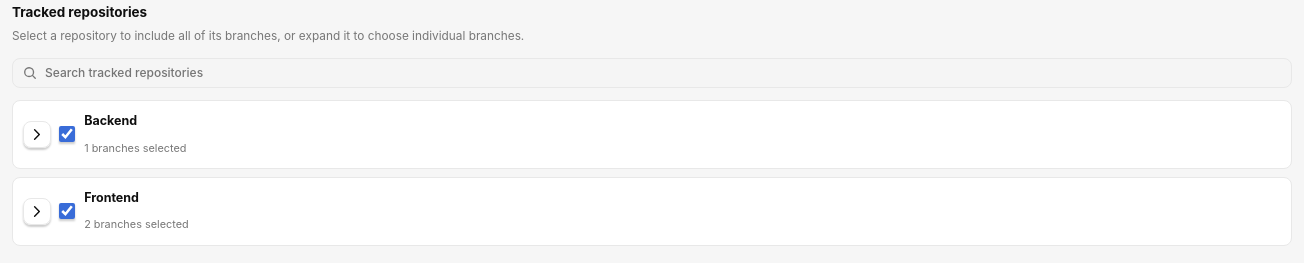
Scenario: RepositoryScopeSelector › restores all repositories when the search is cleared
In the field labelled "Search tracked repositories": coordinates (652, 73) [13, 59, 1291, 87], type "backend"
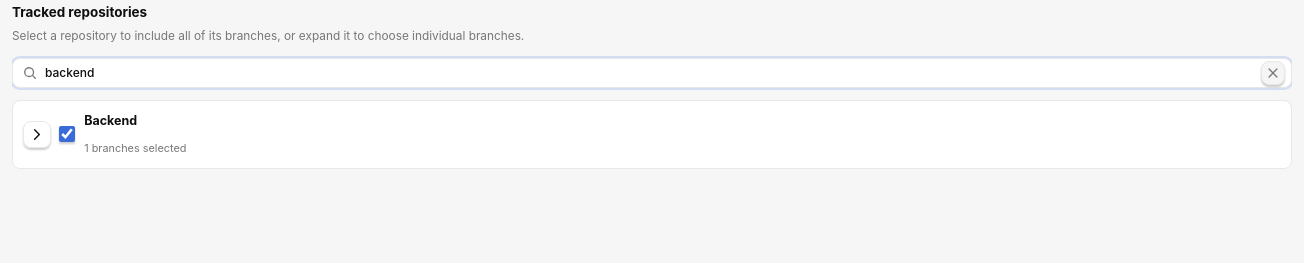
Expected: the text "Backend" is shown, [84, 113, 137, 128]
Expected: the text "Frontend" is gone
Click the button named "Clear search": coordinates (1273, 73) [1261, 61, 1285, 85]
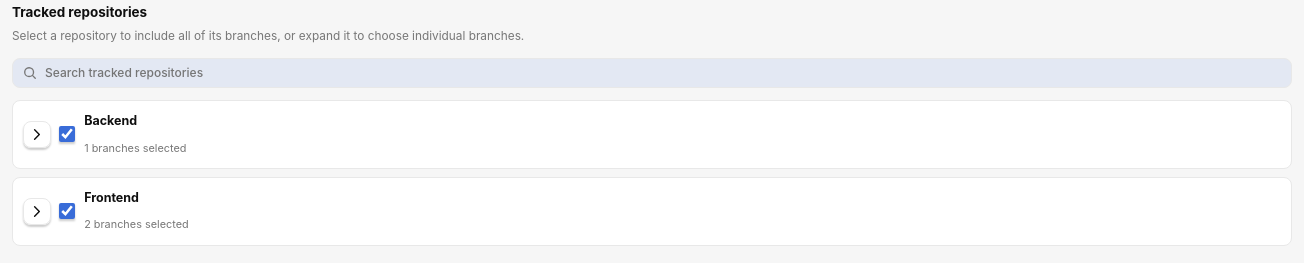
Expected: the text "Backend" is shown, [84, 113, 137, 128]
Expected: the text "Frontend" is shown, [84, 190, 139, 205]
